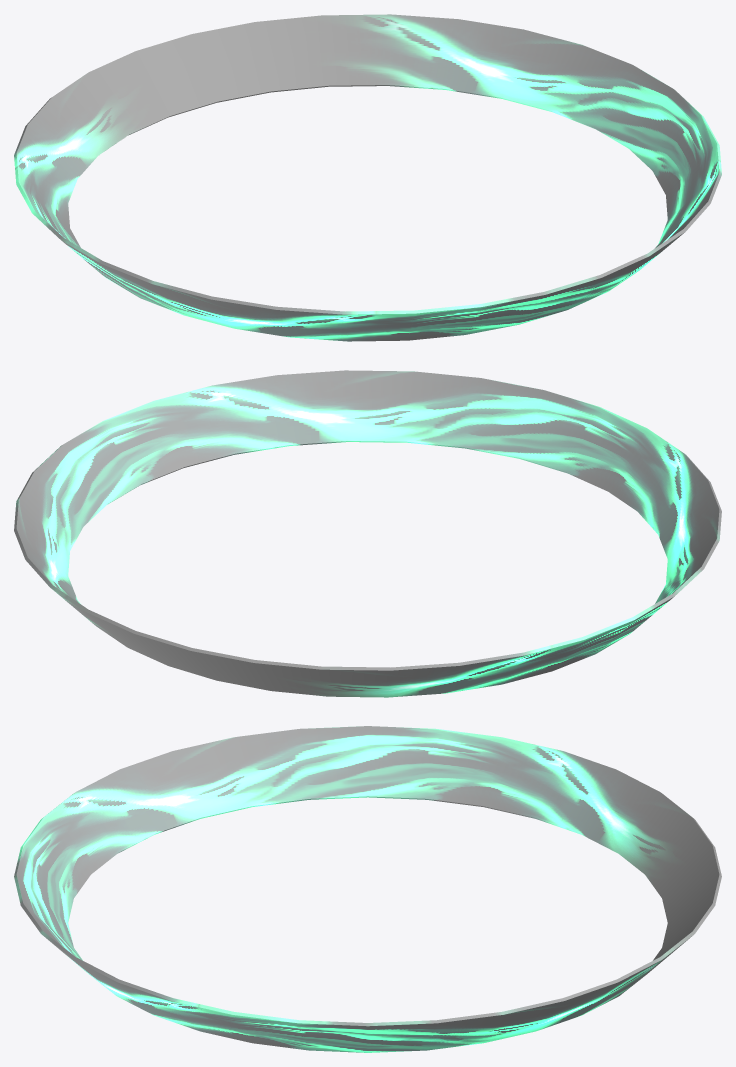
File: DangerZone.fbx
3 views of the same model, one above another, from view 1: azimuth 30°, elevation 25°; view 2: azimuth 150°, elevation 25°; view 3: azimuth 270°, elevation 25° (orthographic).
Parts seen in each view (by area): view 1: polySurface2; view 2: polySurface2; view 3: polySurface2.
Part boxes in pixels (x1,y1,x2,y2): polySurface2: [14, 14, 721, 341]; polySurface2: [14, 370, 721, 697]; polySurface2: [14, 726, 721, 1052].
Bounding box in the file's own units: 732 × 57.87 × 732.
